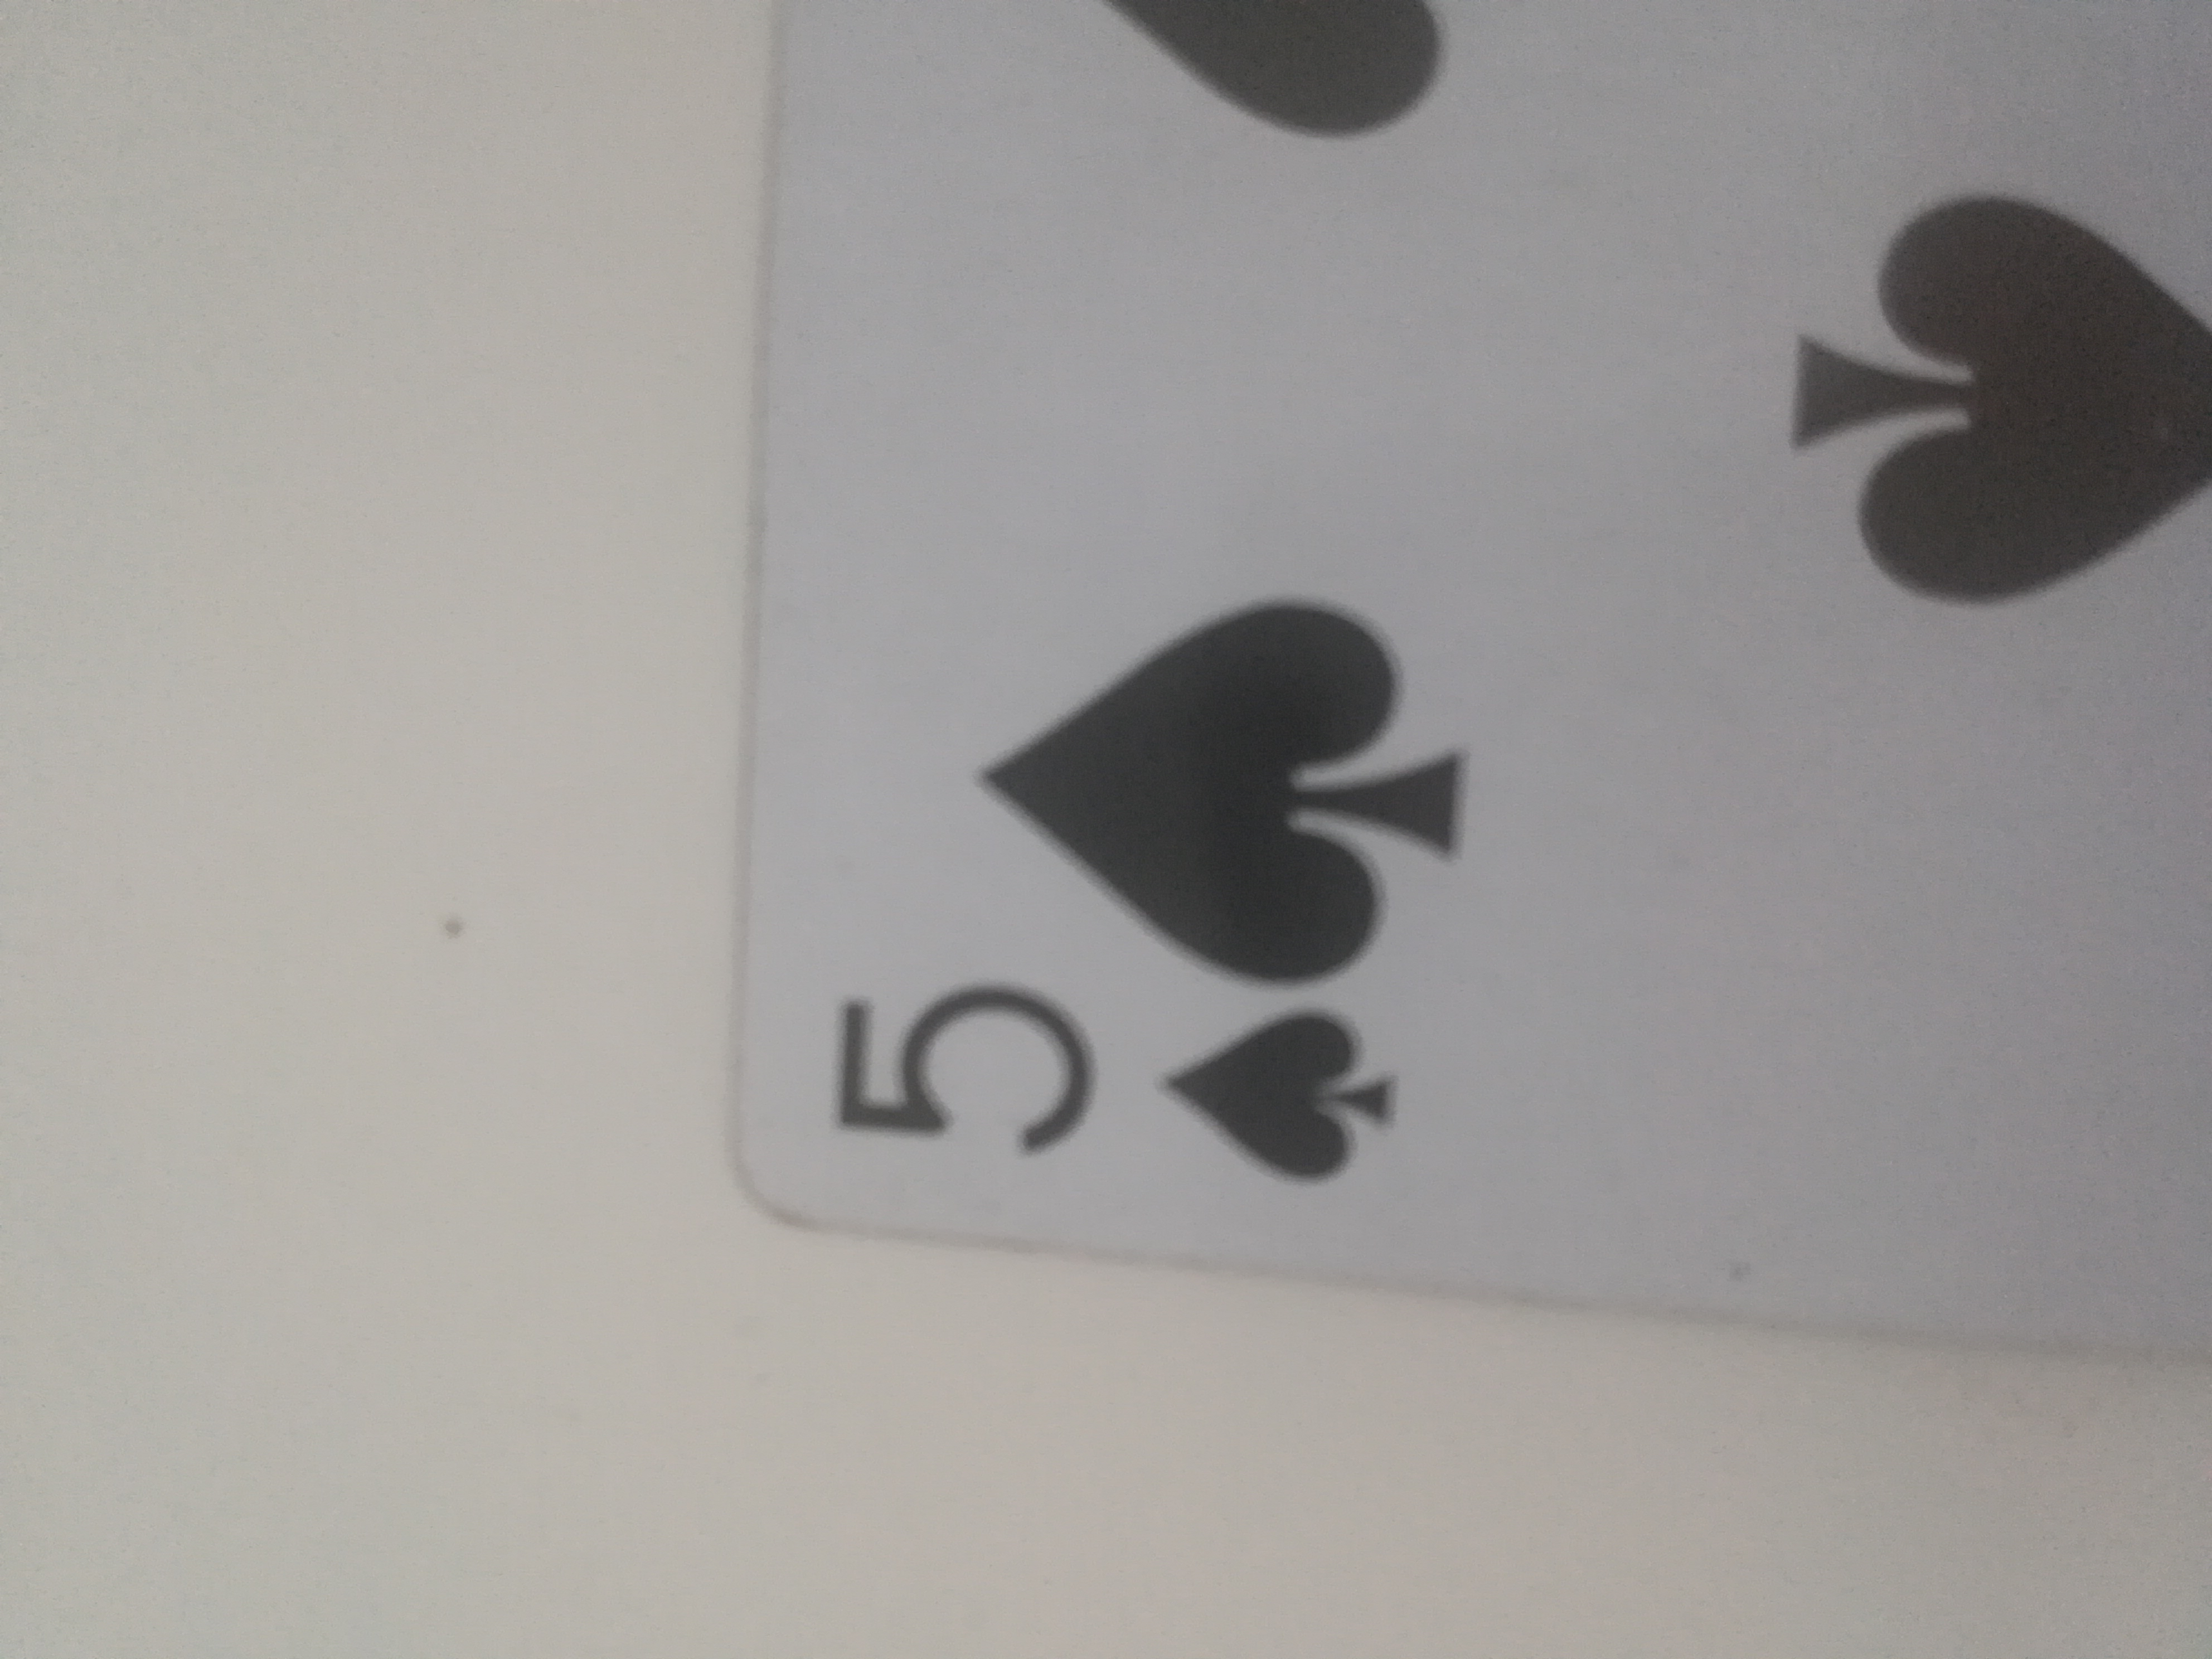5S: (723, 0, 2212, 1359)
